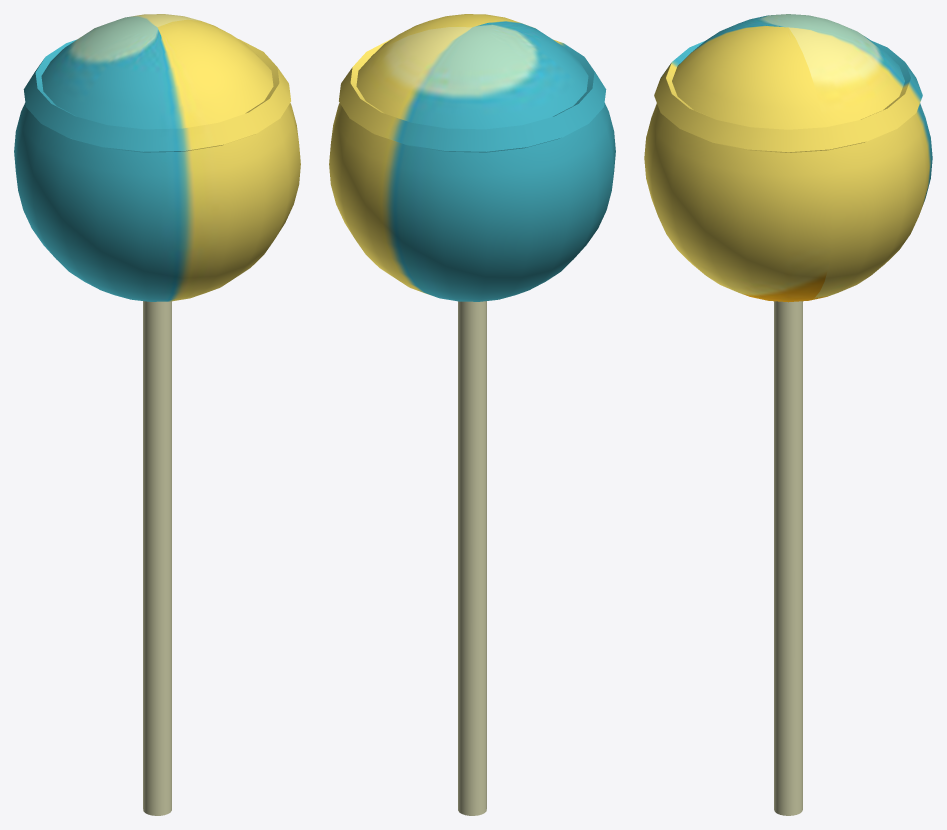
Rendered from loll.fbx.
3 renders of one model, left to right at view 1: azimuth 30°, elevation 25°; view 2: azimuth 150°, elevation 25°; view 3: azimuth 270°, elevation 25°, orthographic.
Visible parts, largest first — view 1: pSphere1, pCylinder1; view 2: pSphere1, pCylinder1; view 3: pSphere1, pCylinder1.
Part boxes in pixels (x1,y1,x2,y2): pSphere1: (14, 14, 300, 301); pCylinder1: (143, 301, 171, 815); pSphere1: (329, 14, 615, 301); pCylinder1: (458, 301, 486, 815); pSphere1: (644, 14, 932, 302); pCylinder1: (774, 301, 802, 815).
Bounding box in the file's own units: 100 × 299 × 100.
Materials: 2 (1 with a texture image).
